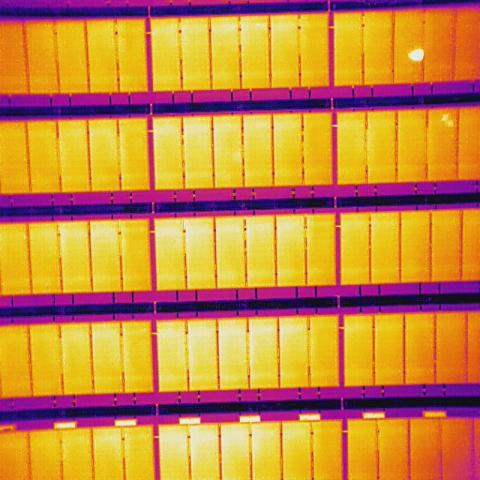fault: (406, 46, 424, 63), (447, 119, 455, 129), (440, 112, 447, 122)
